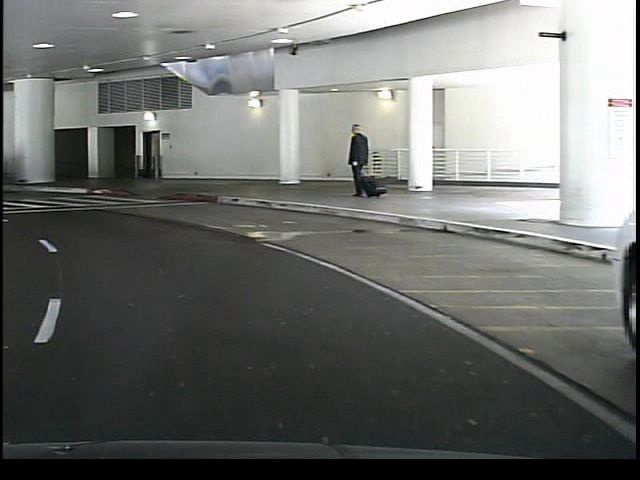person: (339, 121, 369, 199)
